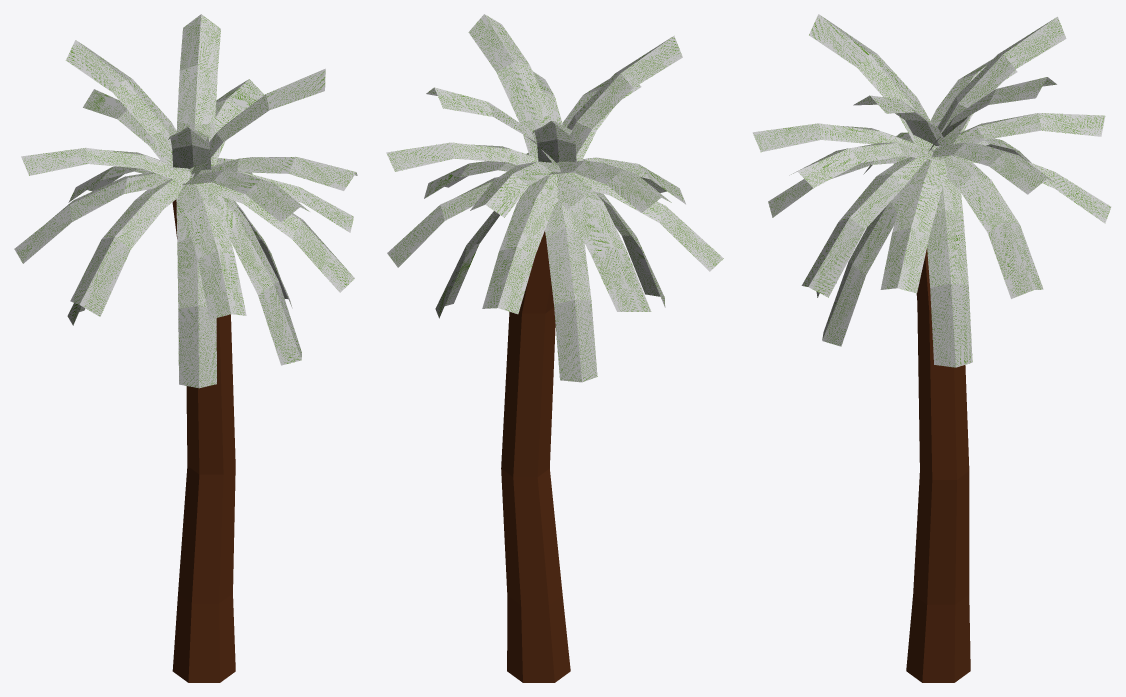
The model's file is T_Palm2PartialSnow.fbx.
3 renders of one model, left to right at view 1: azimuth 30°, elevation 25°; view 2: azimuth 150°, elevation 25°; view 3: azimuth 270°, elevation 25°, orthographic. The views are drawn at different scales.
Visible parts, largest first — view 1: Cylinder; view 2: Cylinder; view 3: Cylinder.
Part boxes in pixels (box(x1,y1,x2,y2)): Cylinder: box(14, 14, 357, 682); Cylinder: box(386, 14, 723, 682); Cylinder: box(752, 14, 1111, 682).
Bounding box in the file's own units: 4.42 × 9.02 × 4.74.
